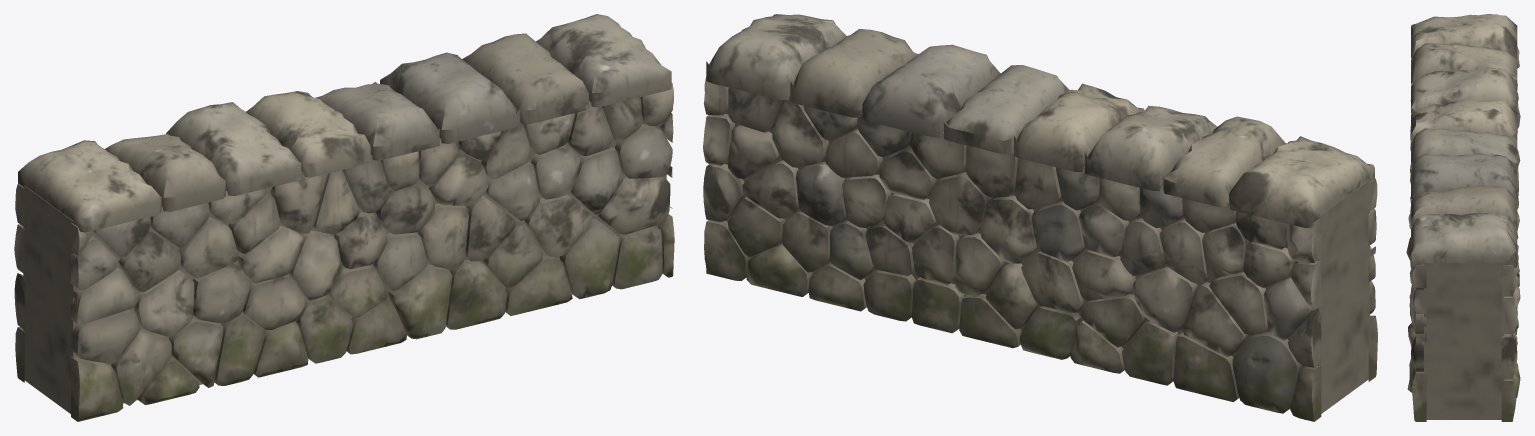
Rendered from Ishigaki_Straight.gltf.
The picture shows the model from 3 angles, left to right: view 1: azimuth 30°, elevation 25°; view 2: azimuth 150°, elevation 25°; view 3: azimuth 270°, elevation 25°; orthographic projection. The views are drawn at different scales.
Visible parts, largest first — view 1: Ishigaki_Straight; view 2: Ishigaki_Straight; view 3: Ishigaki_Straight.
Boxes of the visible parts, bbox=[...] form: Ishigaki_Straight: bbox=[14, 14, 674, 421]; Ishigaki_Straight: bbox=[703, 14, 1377, 421]; Ishigaki_Straight: bbox=[1406, 14, 1520, 421].
Bounding box in the file's own units: 4 × 1.51 × 0.8245.
1 material, 1 textured.
